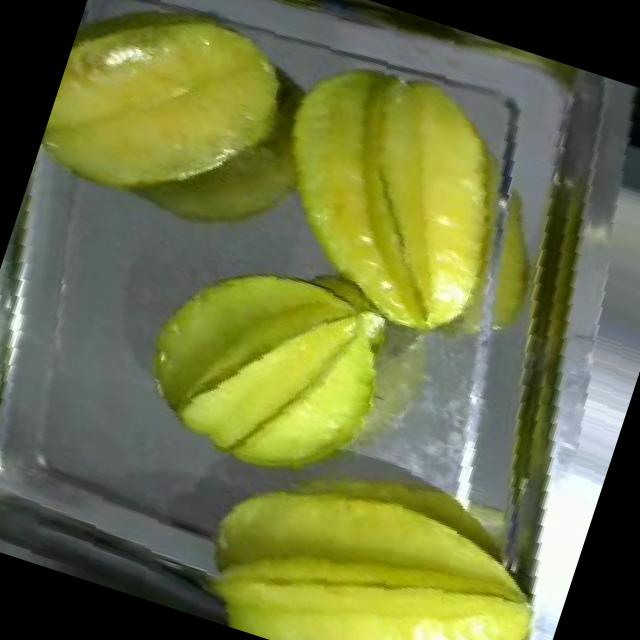fruit: (216, 22, 564, 370), (104, 218, 423, 512), (176, 427, 575, 640), (27, 0, 324, 258)
